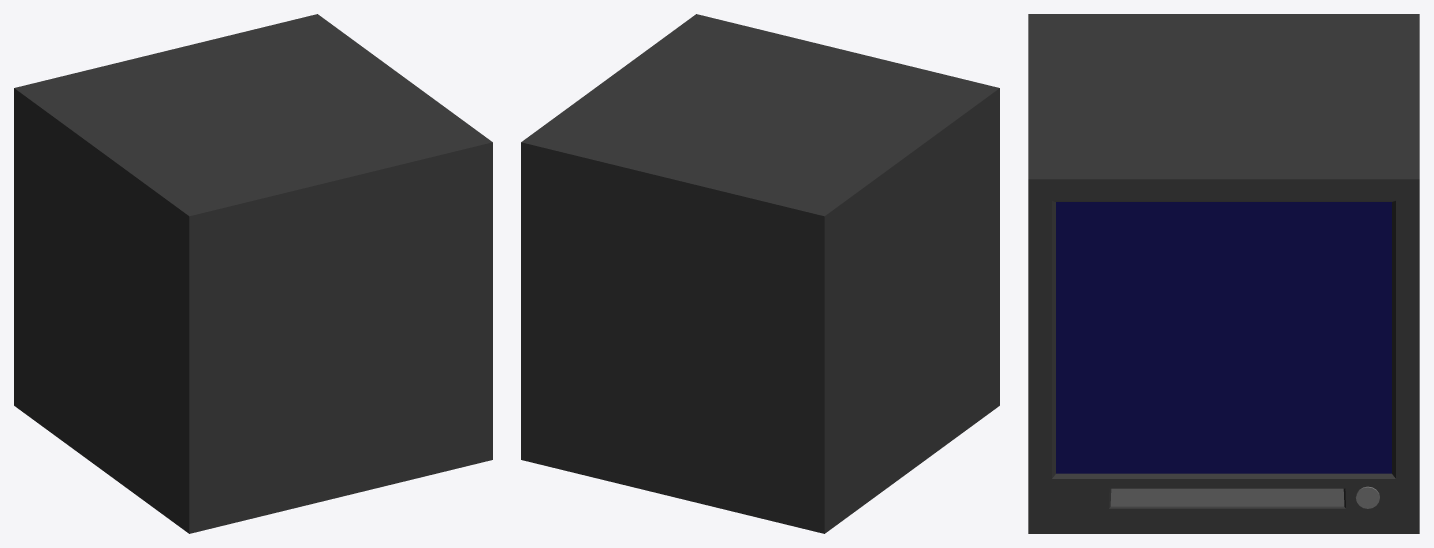
The model's file is tele2.fbx.
The picture shows the model from 3 angles, left to right: view 1: azimuth 30°, elevation 25°; view 2: azimuth 150°, elevation 25°; view 3: azimuth 270°, elevation 25°; orthographic projection. The views are drawn at different scales.
Parts seen in each view (by area): view 1: tele2_blocking; view 2: tele2_blocking; view 3: tele2_blocking.
Boxes of the visible parts, <box> form: tele2_blocking: <box>14,14,492,533</box>; tele2_blocking: <box>521,14,999,533</box>; tele2_blocking: <box>1028,14,1419,533</box>.
Bounding box in the file's own units: 201 × 200 × 200.
